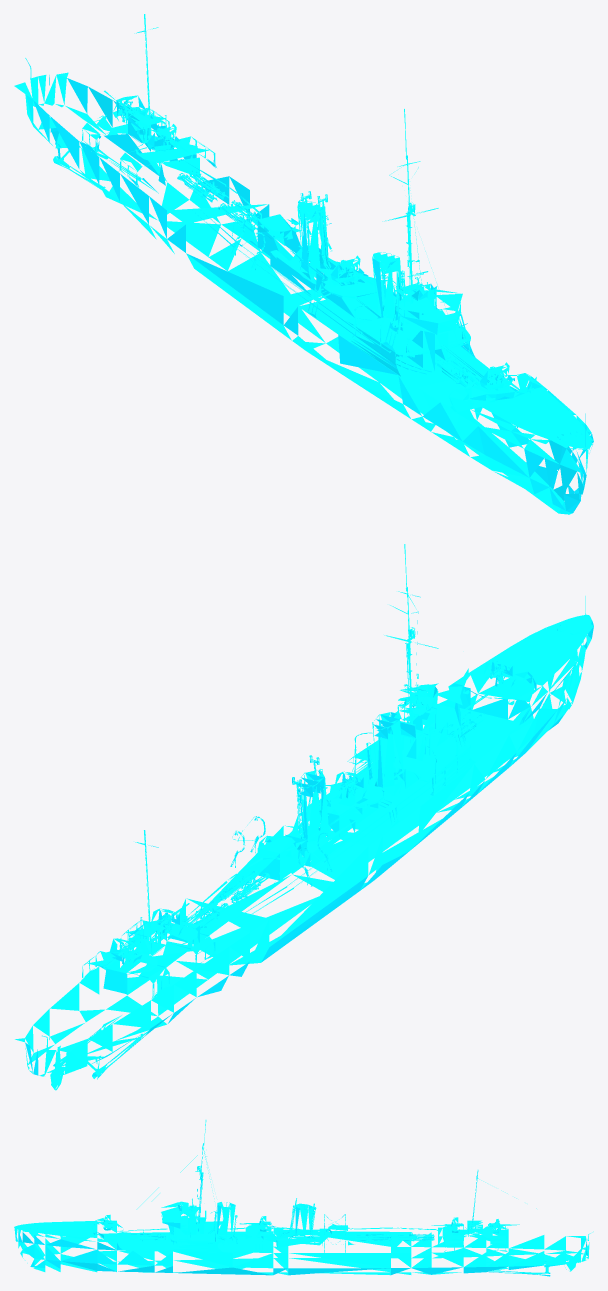
File: Camo_Kamikaze.glb
3 renders of one model, top to bottom at view 1: azimuth 30°, elevation 25°; view 2: azimuth 150°, elevation 25°; view 3: azimuth 270°, elevation 25°, orthographic. The views are drawn at different scales.
Bounding box in the file's own units: 0.6338 × 1.99 × 6.86.
